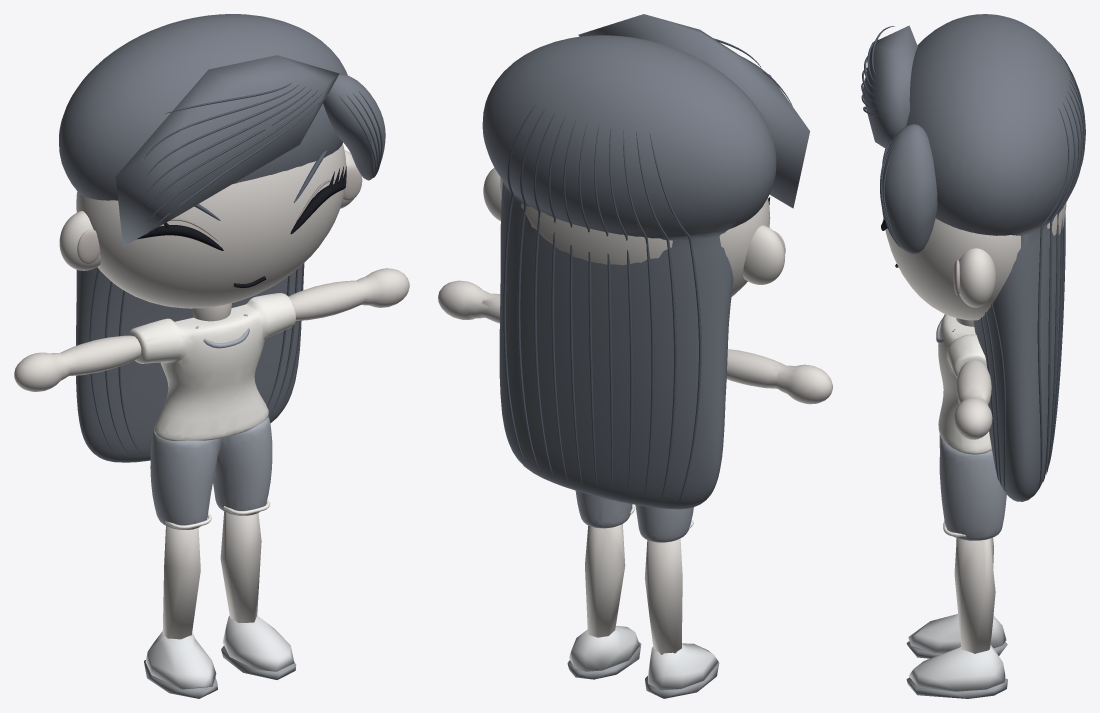
Rendered from girl_for_mixamo.fbx.
3 renders of one model, left to right at view 1: azimuth 30°, elevation 25°; view 2: azimuth 150°, elevation 25°; view 3: azimuth 270°, elevation 25°, orthographic.
Visible parts, largest first — view 1: Girl; view 2: Girl; view 3: Girl.
Boxes of the visible parts, x1=… form: Girl: x1=14, y1=14, x2=409, y2=698; Girl: x1=438, y1=14, x2=832, y2=698; Girl: x1=861, y1=14, x2=1085, y2=698.
Size of the model in its own units: 2.68 by 4.14 by 1.33.
